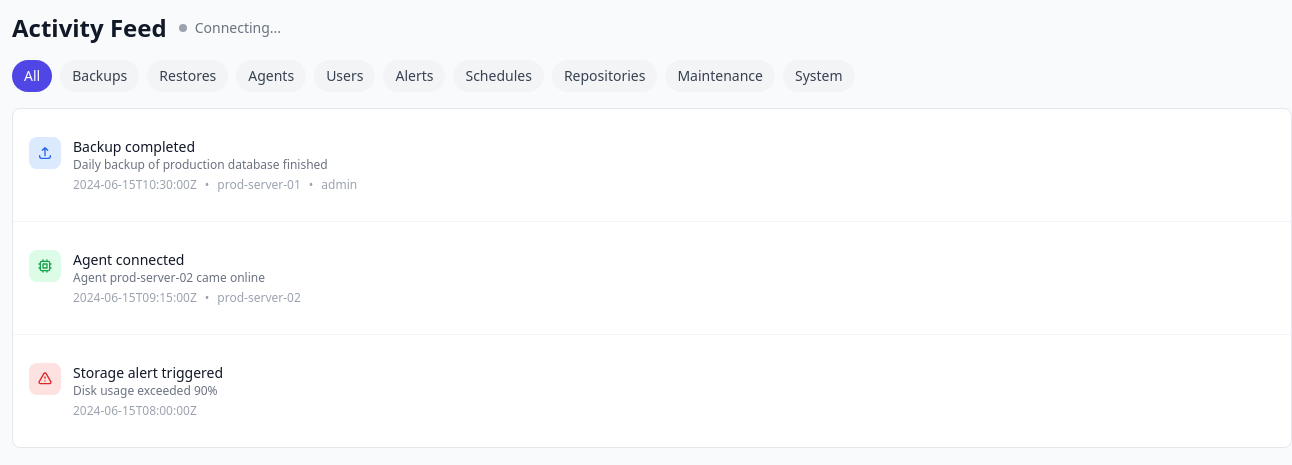
Test: Activity page › returns to showing all events when 'All' filter is clicked after filtering
# Filter to Agents
Click the button "Agents". click: click(271, 76)
box: [236,60,306,92]
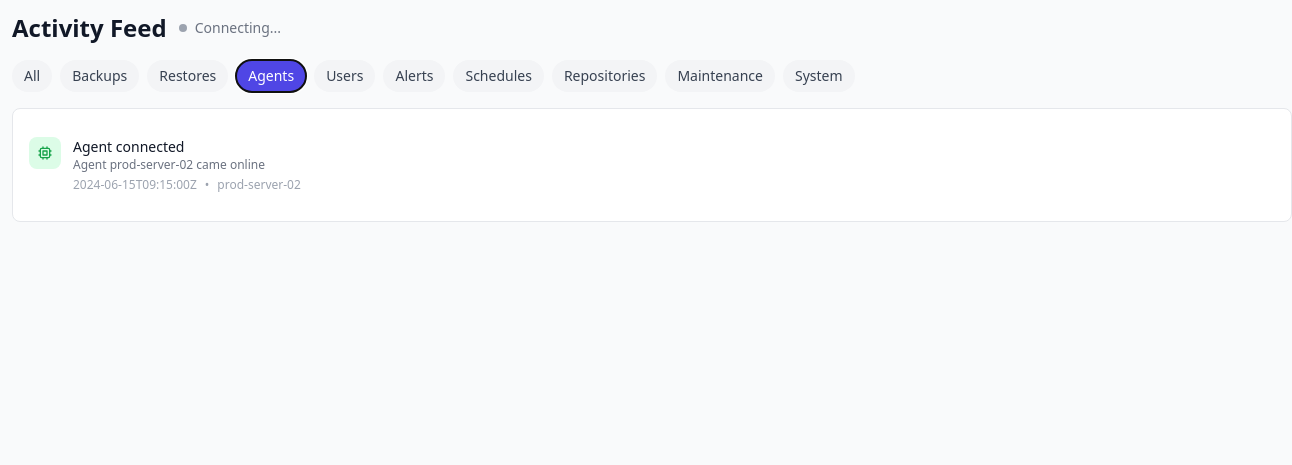
Check: the text "Backup completed" is gone
# Click All to show everything again
Click the button "All". click: click(32, 76)
box: [12,60,52,92]
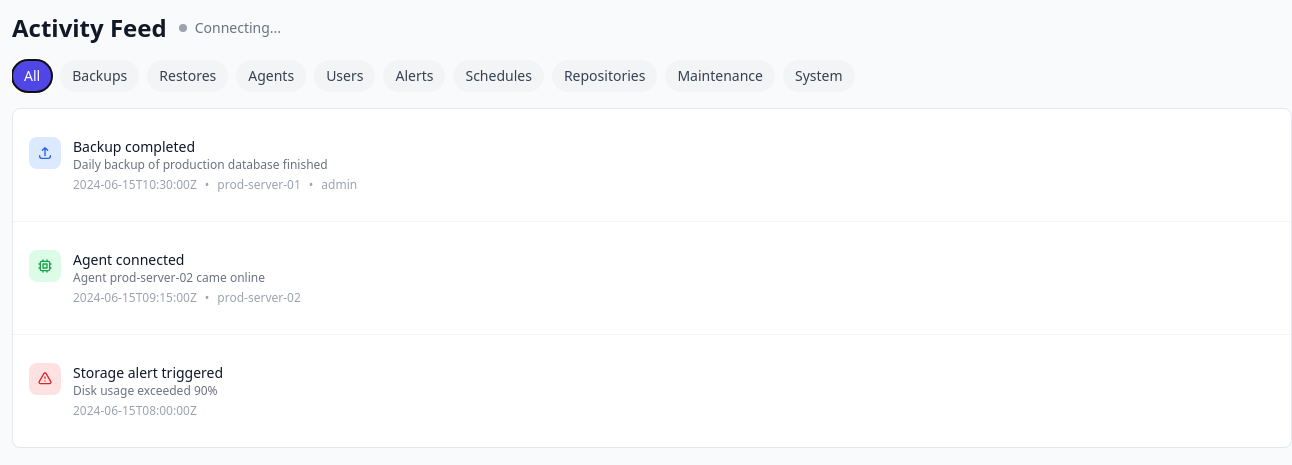
Check: the text "Agent connected" is shown, box [73,250,184,269]
Check: the text "Backup completed" is shown, box [73,137,195,156]
Check: the text "Storage alert triggered" is shown, box [73,363,223,382]
